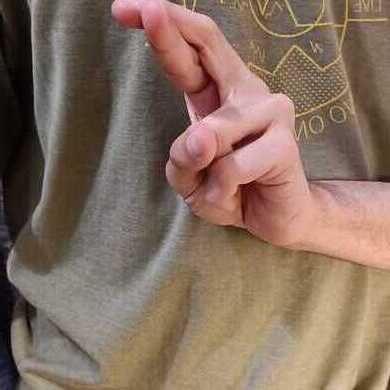R: (109, 1, 311, 248)
